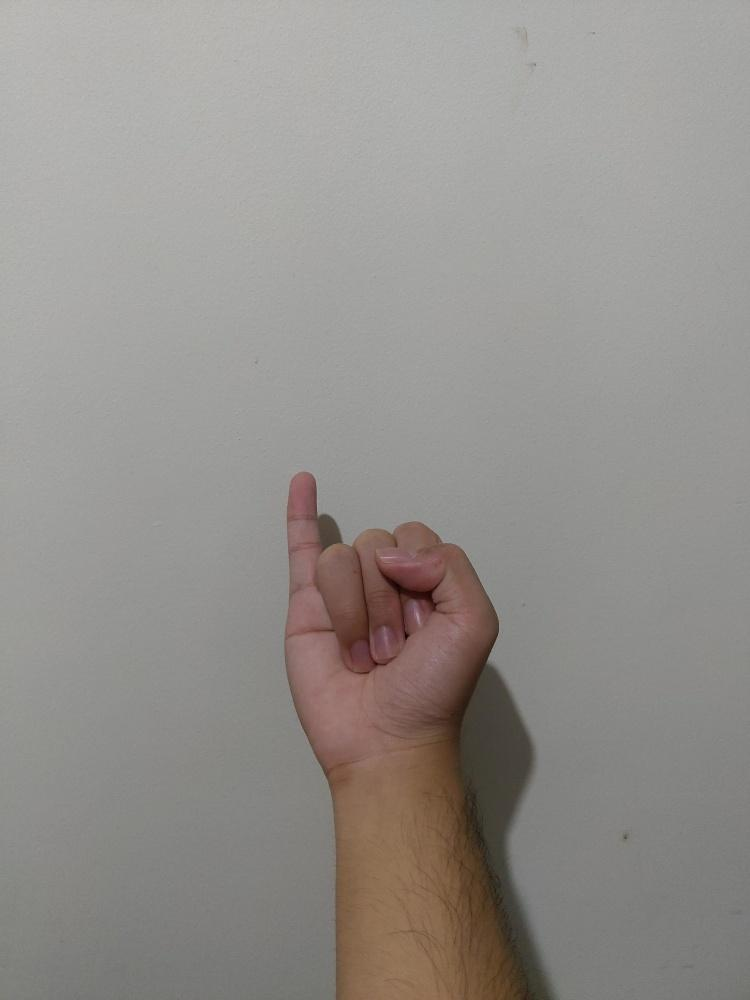i: (284, 470, 502, 772)
